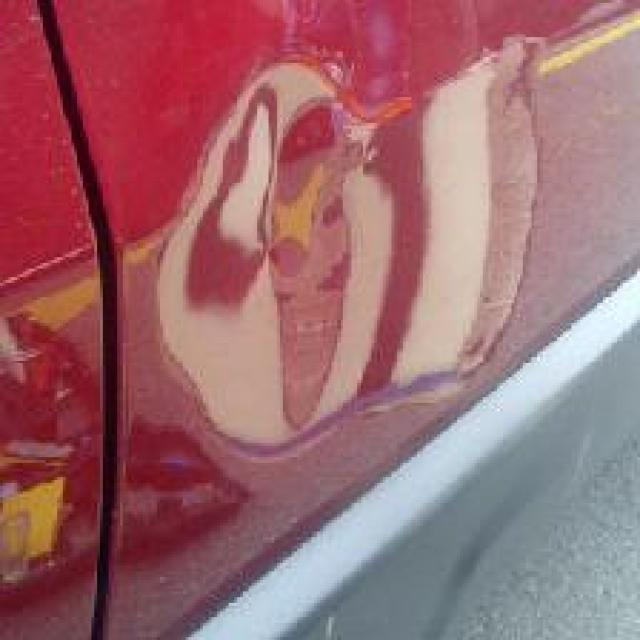door_dent_severe: (163, 63, 489, 420)
